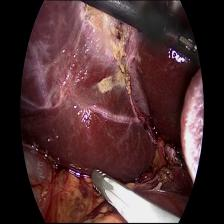Irrigator: (91, 162, 117, 202)
